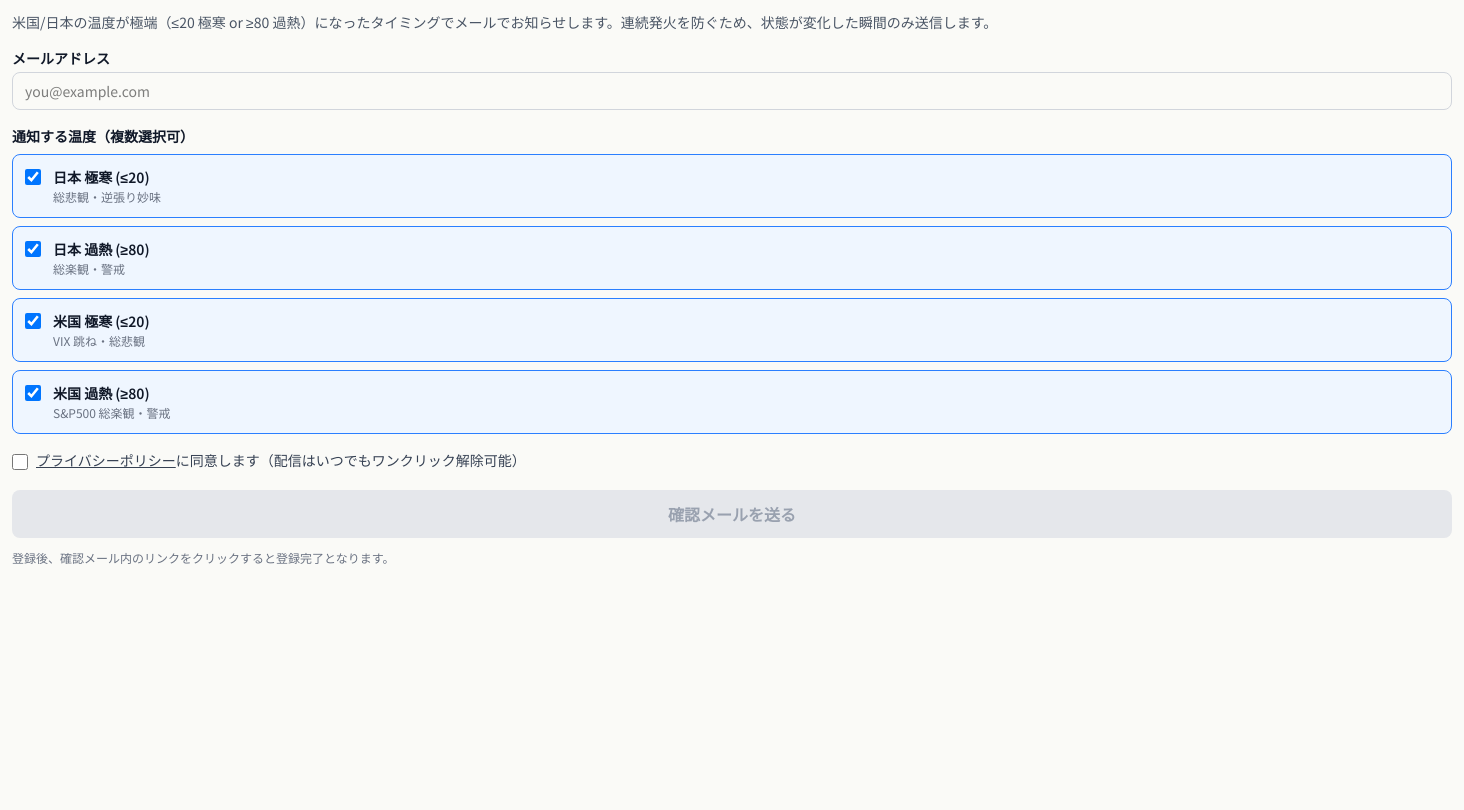
Test: AlertSignupForm › メール・variant・同意が揃うまで送信ボタンは無効
Expected: the button "確認メールを送る" is disabled, [12,490,1452,538]
Type "test@example.com" into the field labelled "メールアドレス".
click(732, 91); type("test@example.com")  # box [12,72,1452,110]
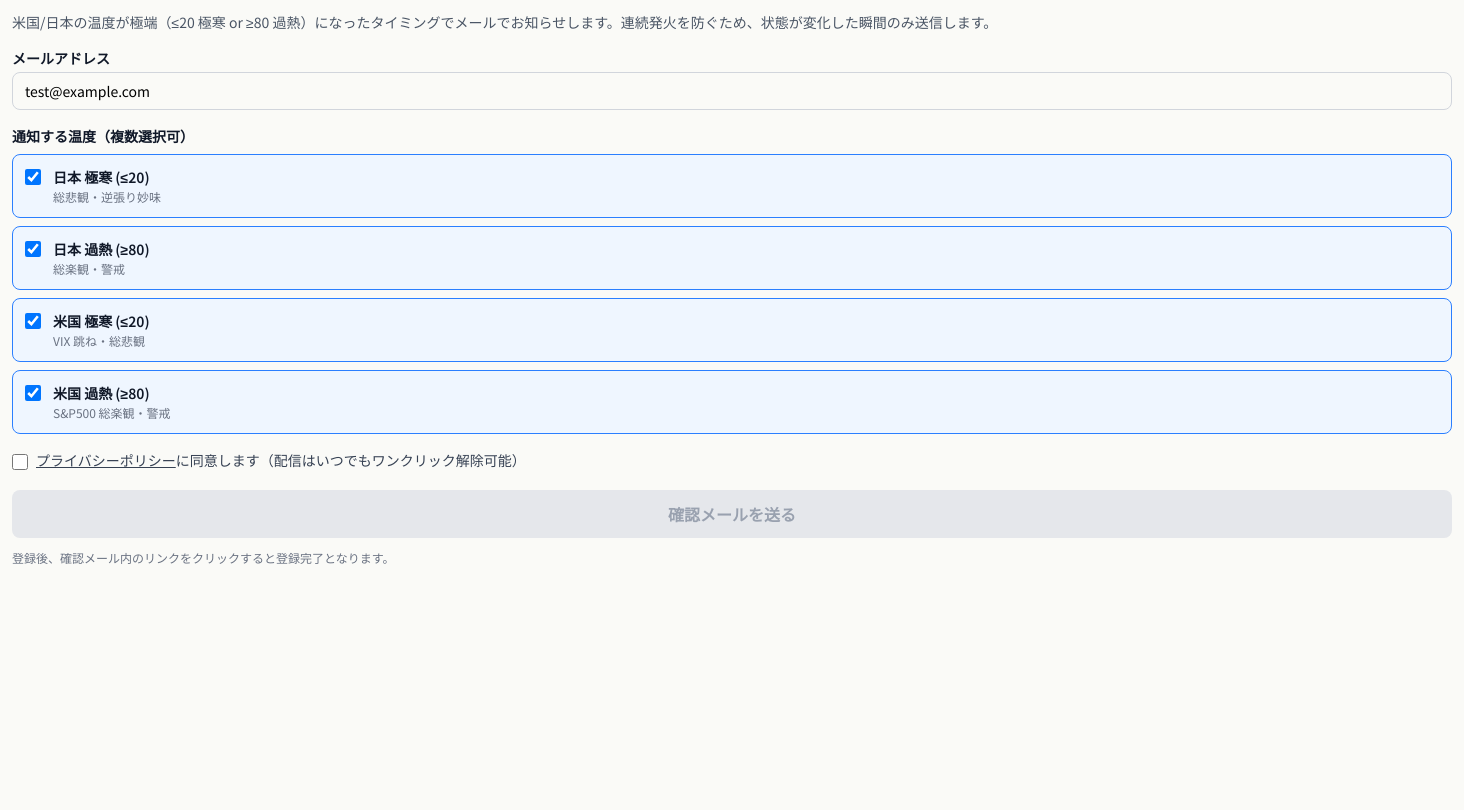
Click the checkbox labelled "プライバシーポリシー に同意します（配信はいつでもワンクリック解除可能）".
click(20, 462)  # box [12,454,28,470]
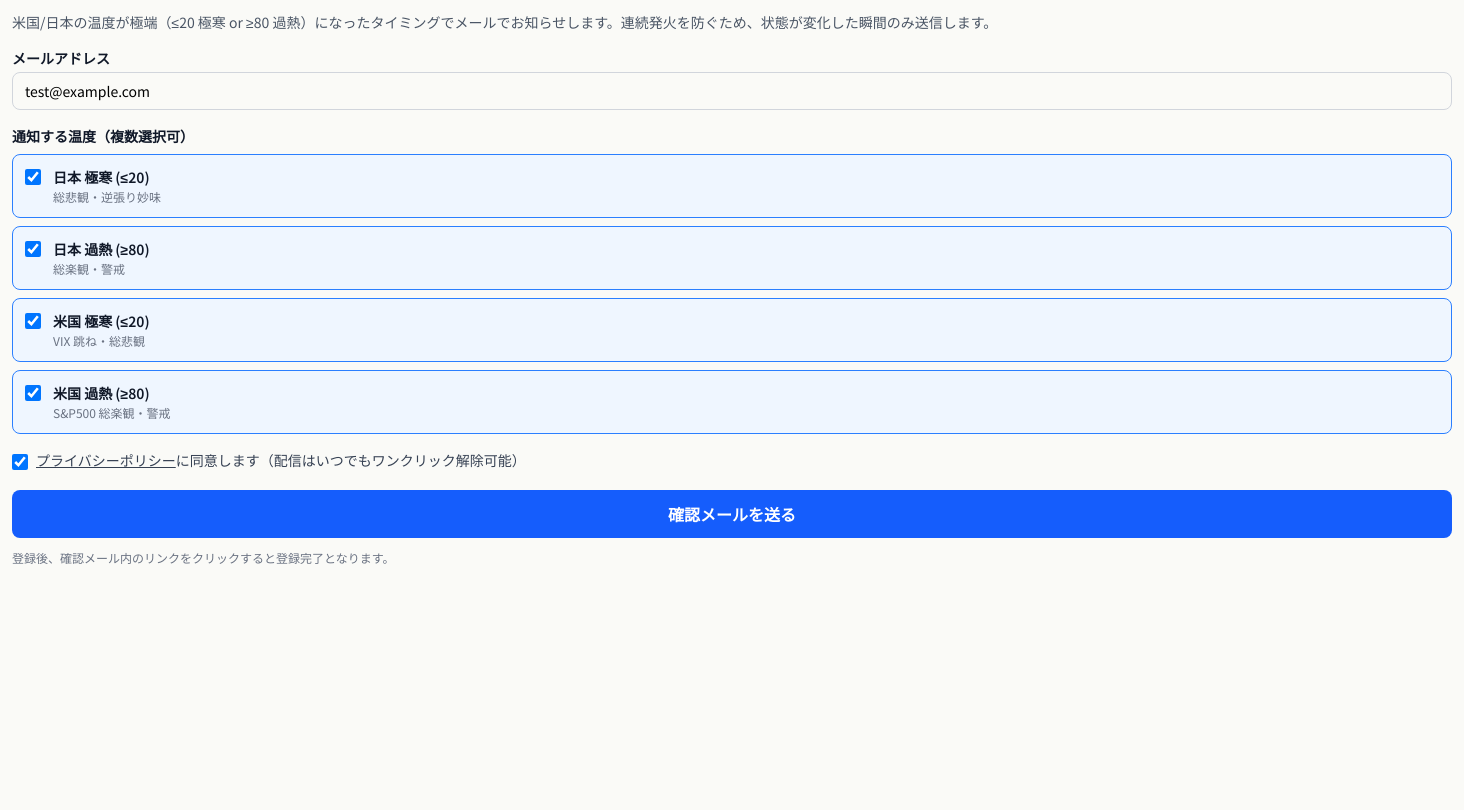
Now the button "確認メールを送る" is enabled, box [12,490,1452,538]
